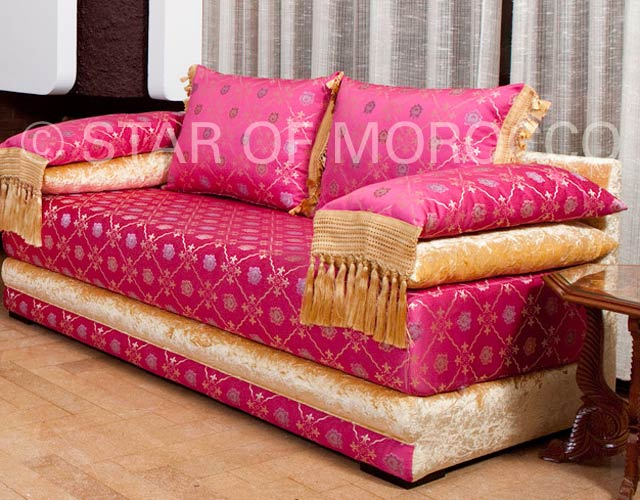chairs: (1, 59, 623, 483)
